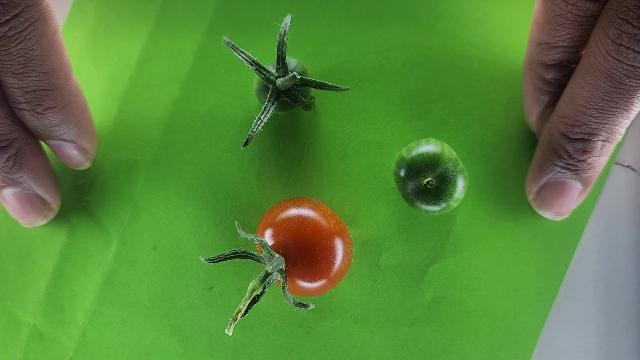Fruit Maturation: (390, 135, 472, 217), (255, 56, 312, 113)
Fully Grown: (253, 196, 355, 299)
